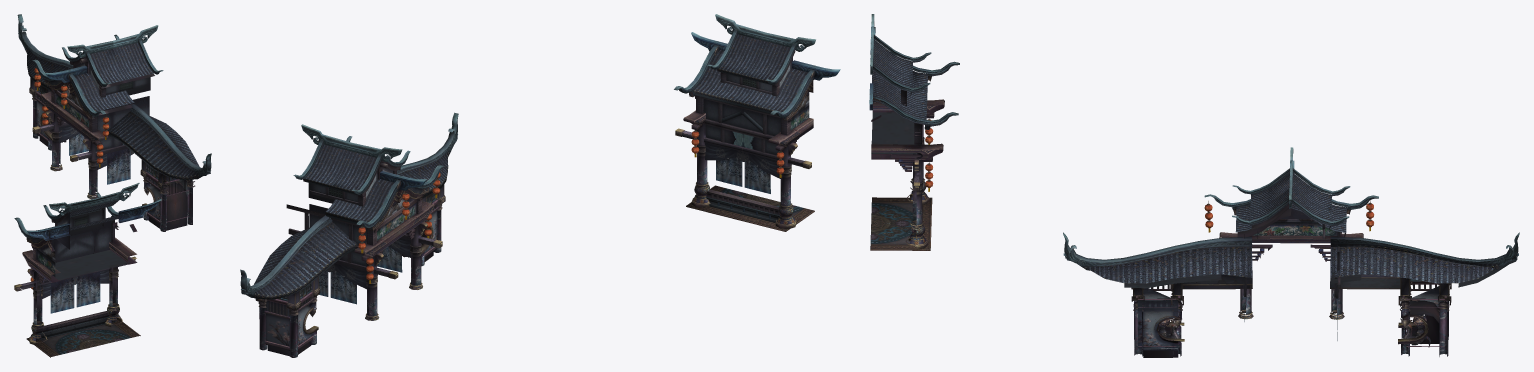
The model's file is 1v1_01_house_01.FBX.
3 renders of one model, left to right at view 1: azimuth 30°, elevation 25°; view 2: azimuth 150°, elevation 25°; view 3: azimuth 270°, elevation 25°, orthographic. The views are drawn at different scales.
Parts seen in each view (by area): view 1: h2, h3, house, h4; view 2: h2, h3, h4, house; view 3: h2, house, h4, h3.
Part boxes in pixels (bbox=[...]): h2: bbox=[14, 183, 161, 357]; h3: bbox=[32, 25, 163, 199]; house: bbox=[107, 104, 211, 231]; h4: bbox=[17, 14, 73, 150]; h2: bbox=[674, 14, 840, 231]; h3: bbox=[286, 124, 443, 320]; h4: bbox=[240, 215, 357, 357]; house: bbox=[397, 112, 458, 266]; h2: bbox=[869, 14, 959, 250]; house: bbox=[1063, 232, 1252, 357]; h4: bbox=[1330, 232, 1519, 356]; h3: bbox=[1204, 147, 1378, 340].
Bounding box in the file's own units: 57.08 × 29.54 × 88.15.
